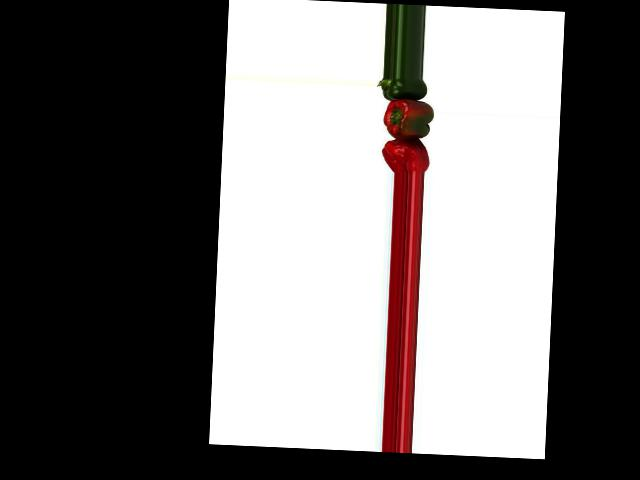bell_pepper: (377, 136, 432, 174)
